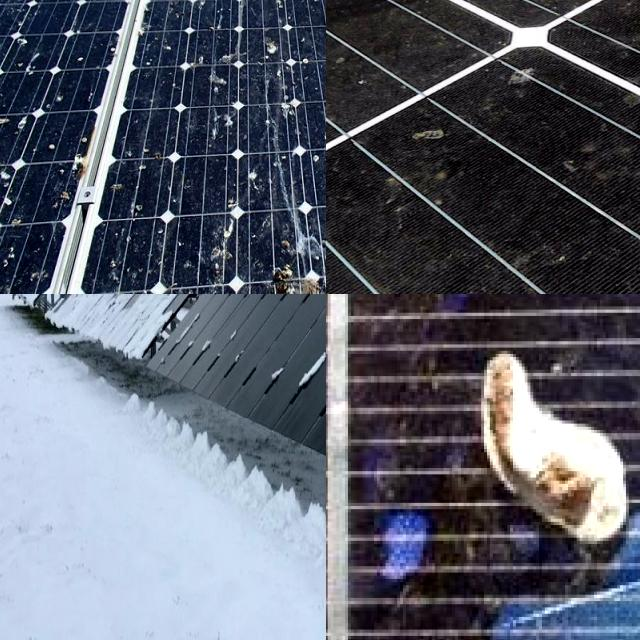bird: (444, 349, 640, 543), (0, 79, 72, 294), (237, 0, 319, 124), (0, 0, 174, 31), (438, 0, 543, 46), (111, 255, 205, 294), (256, 244, 326, 294), (201, 0, 324, 21), (212, 0, 326, 21), (326, 338, 355, 385)
panel: (60, 294, 144, 340), (158, 294, 234, 322), (295, 342, 326, 405), (96, 294, 151, 315), (145, 308, 181, 338), (264, 360, 293, 388), (15, 294, 47, 316), (257, 294, 292, 308), (226, 332, 242, 353), (200, 338, 214, 356)
